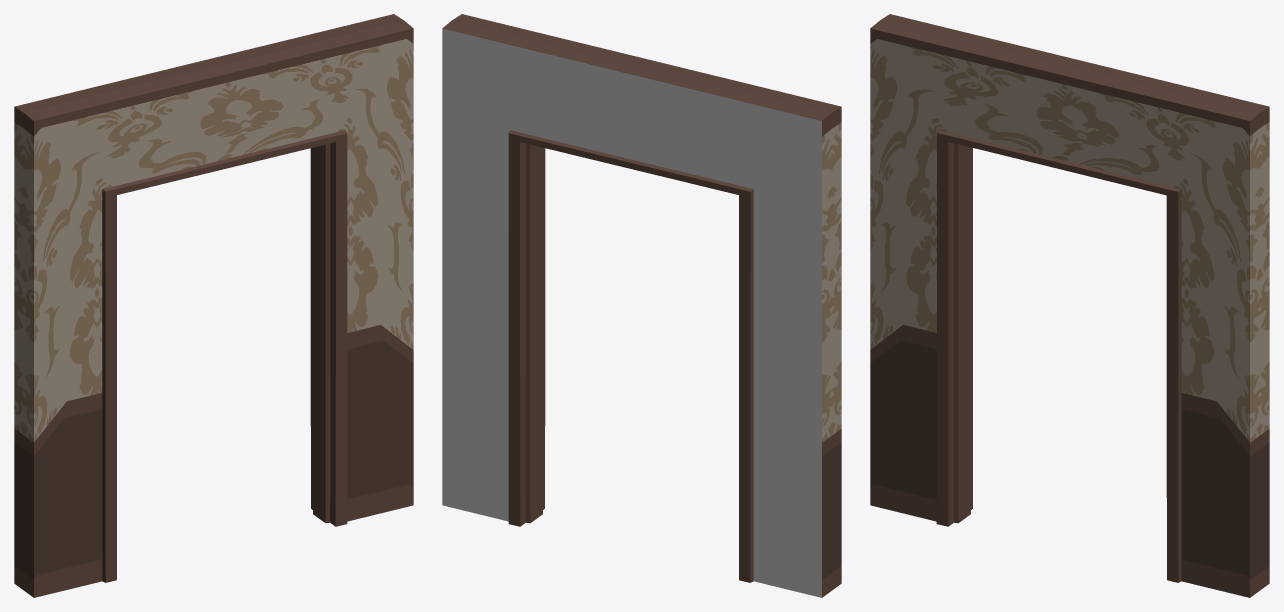
File: WALL DOOR 2.fbx
3 renders of one model, left to right at view 1: azimuth 30°, elevation 25°; view 2: azimuth 150°, elevation 25°; view 3: azimuth 330°, elevation 25°, orthographic.
Visible parts, largest first — view 1: WallDoor2; view 2: WallDoor2; view 3: WallDoor2.
Boxes of the visible parts, x1,y1,x2,y2 form: WallDoor2: (14,14,413,597); WallDoor2: (442,14,841,597); WallDoor2: (870,14,1269,597).
Bounding box in the file's own units: 250 × 301 × 28.8.
